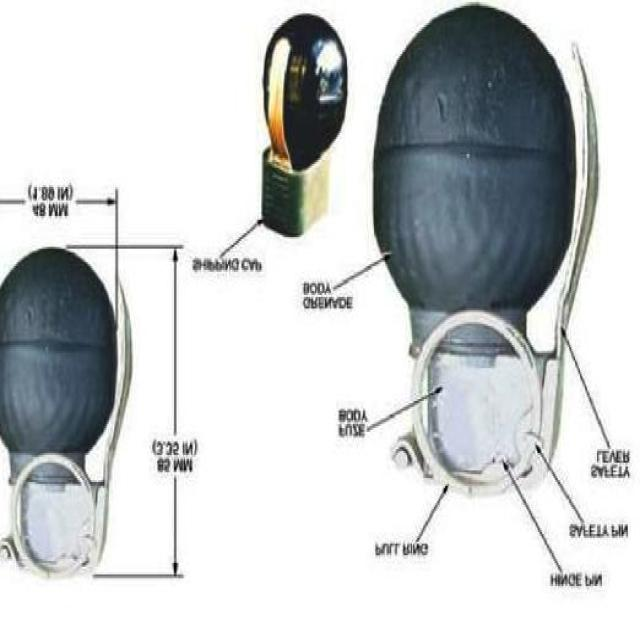grenade: (374, 6, 601, 498), (1, 246, 136, 581), (260, 11, 350, 240)
